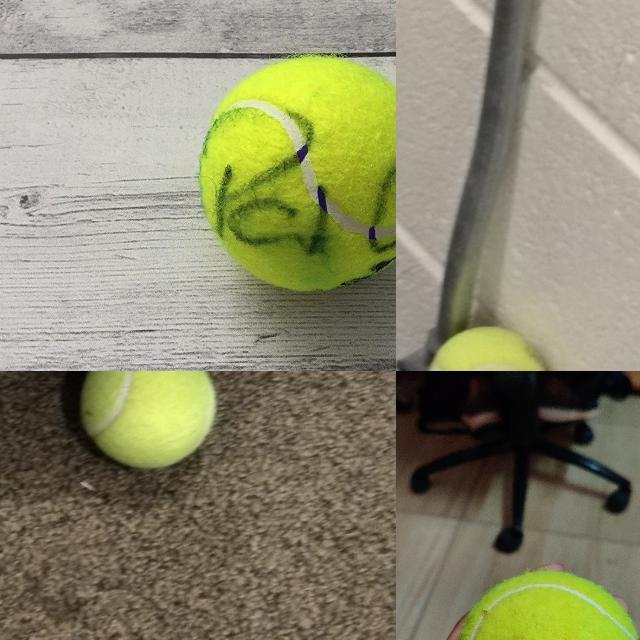tennis-ball: (199, 56, 395, 292), (77, 371, 218, 470), (455, 570, 639, 639), (425, 324, 550, 370)
